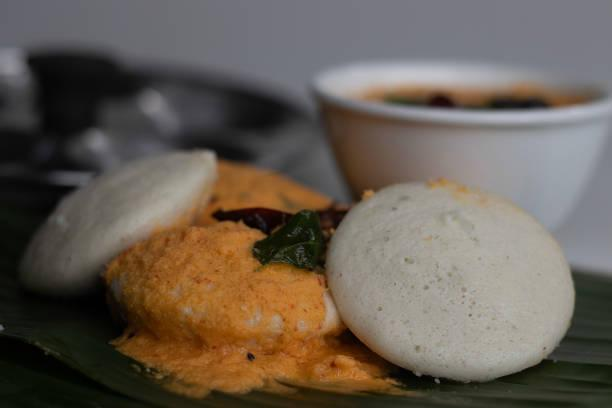coconut chutney: (126, 323, 371, 394)
idli: (337, 180, 580, 386), (9, 146, 213, 288)
